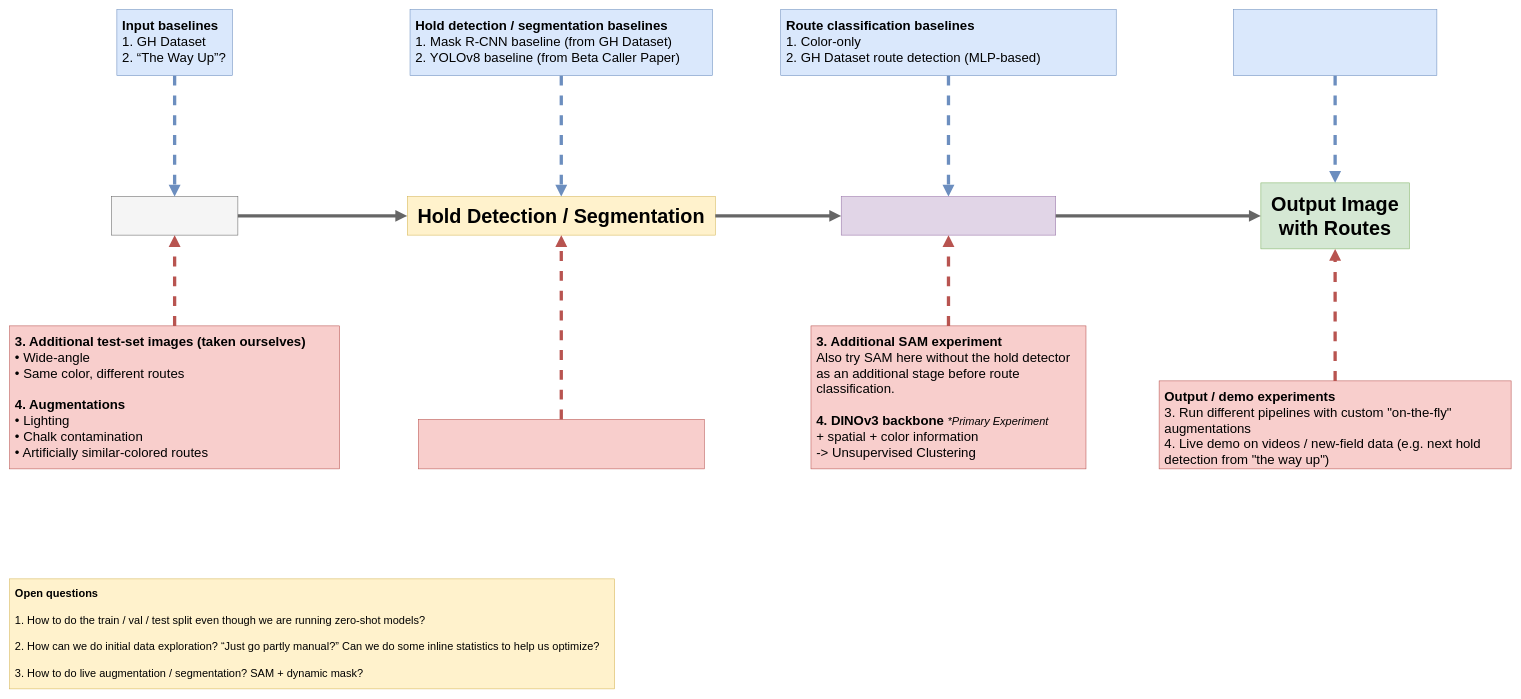
The diagram is 1521 pixels wide and 699 high, and some of its shapes have lost their labels. The shapes that lost their labels are listed below. From the top down, each one's box as (x1, y1, x2, y2) in pixels, then its label:
(1233, 9, 1437, 76): Output / combinations 1. GH detector / dataset 2. Some other combination?
(111, 196, 238, 235): Wall Image
(841, 196, 1056, 235): Route Classification
(418, 419, 704, 469): 3. Zero-shot segmentation / detection test → SAM (recommended by teaching team)
